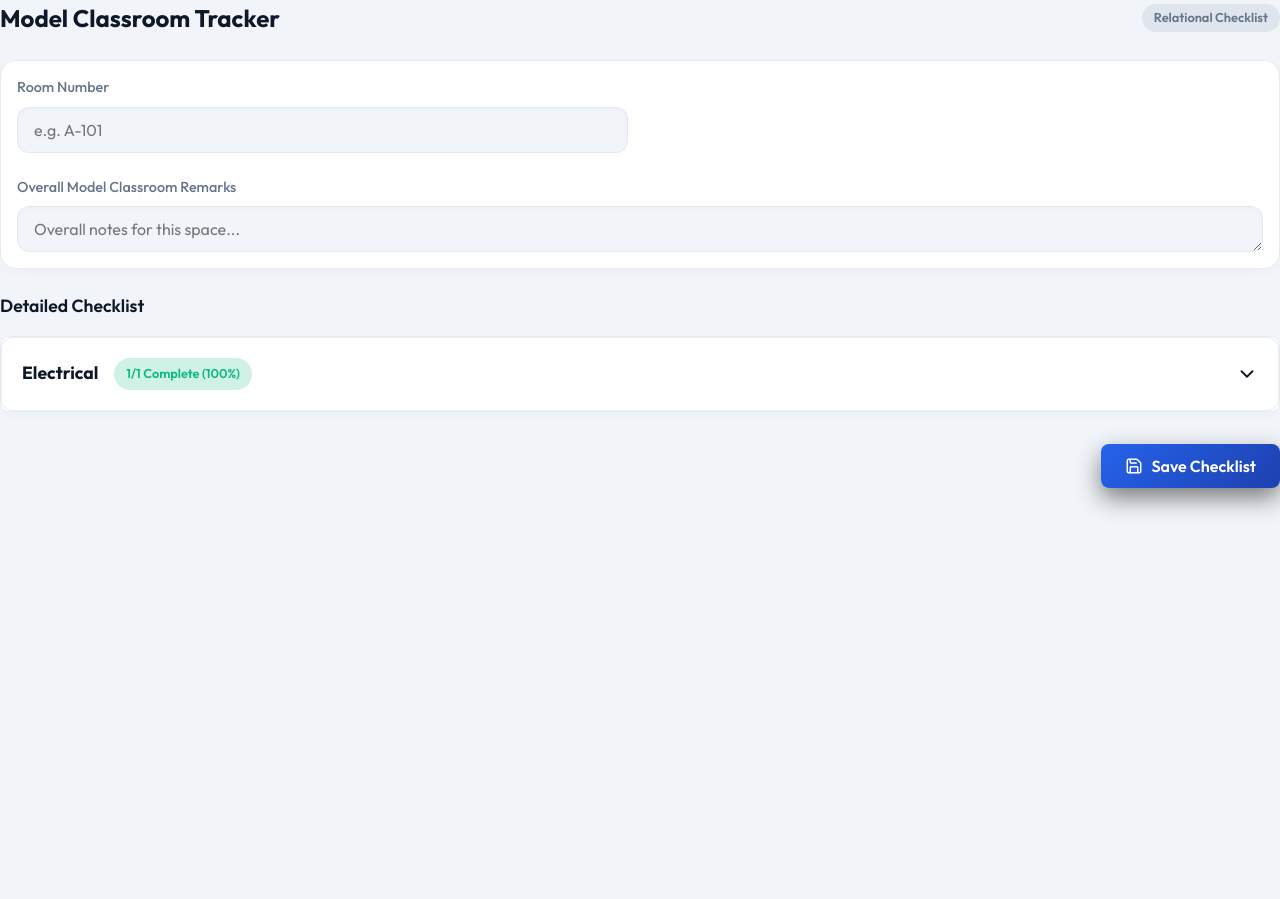
Test: model save does not open a copy snapshot while a source draft remains pending
Click the button "Electrical 1/1 Complete (100%)" at (60, 373), box [1,337,1279,411]
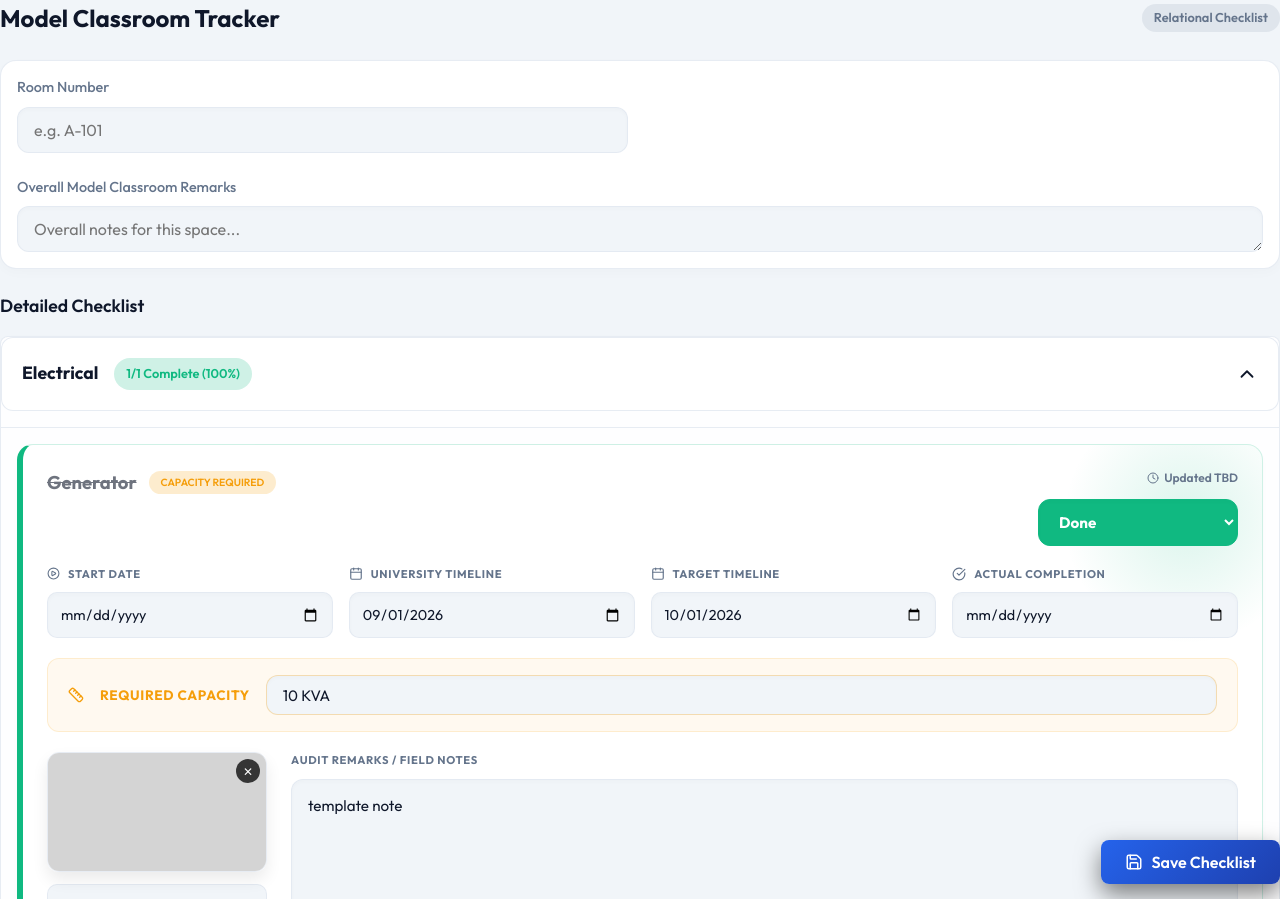
Replace the text in the field with placeholder "e.g. 62.5 KVA" with "12 KVA" at (741, 695), box [266,675,1217,715]
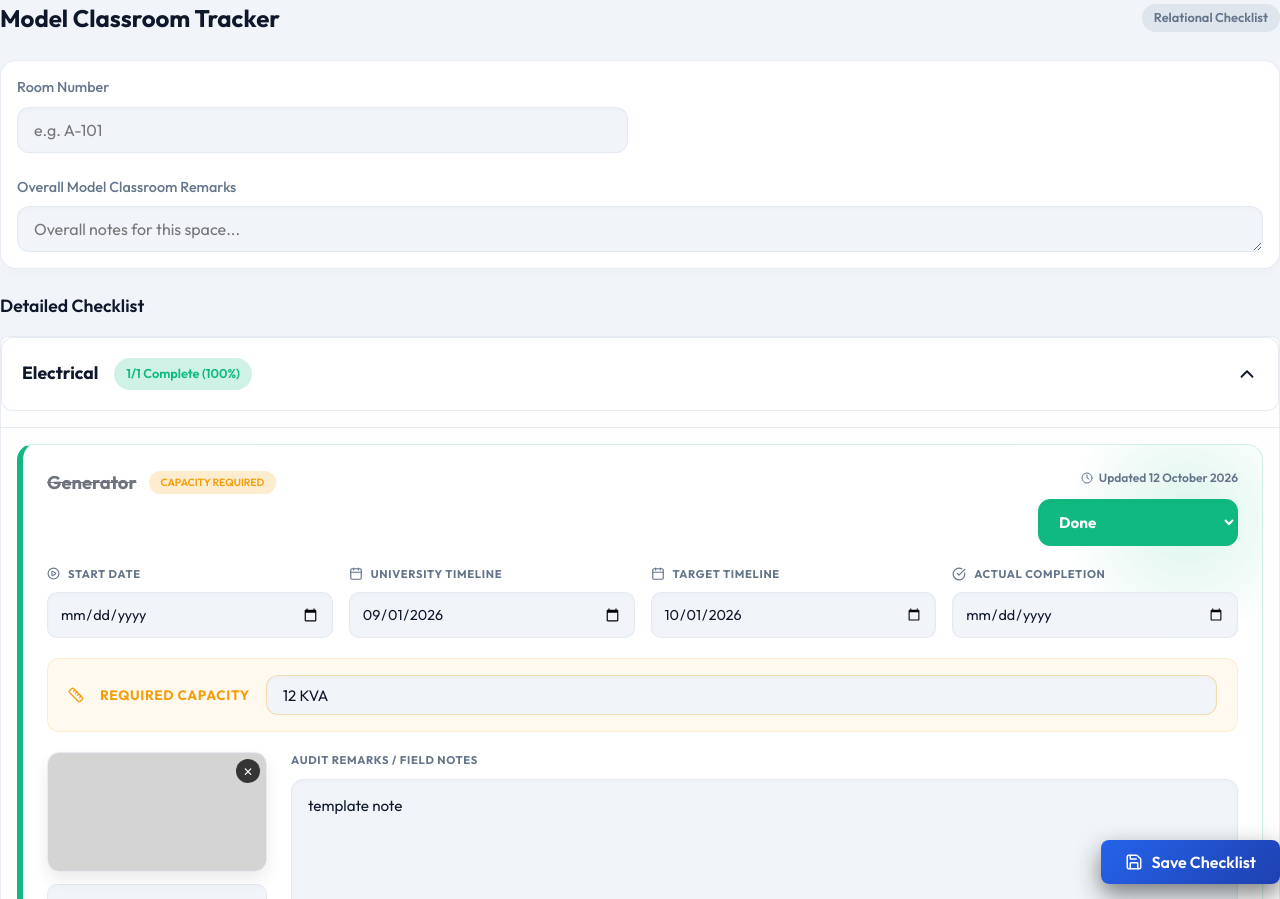
Click the button "Save Checklist" at (1191, 862), box [1102,840,1279,884]
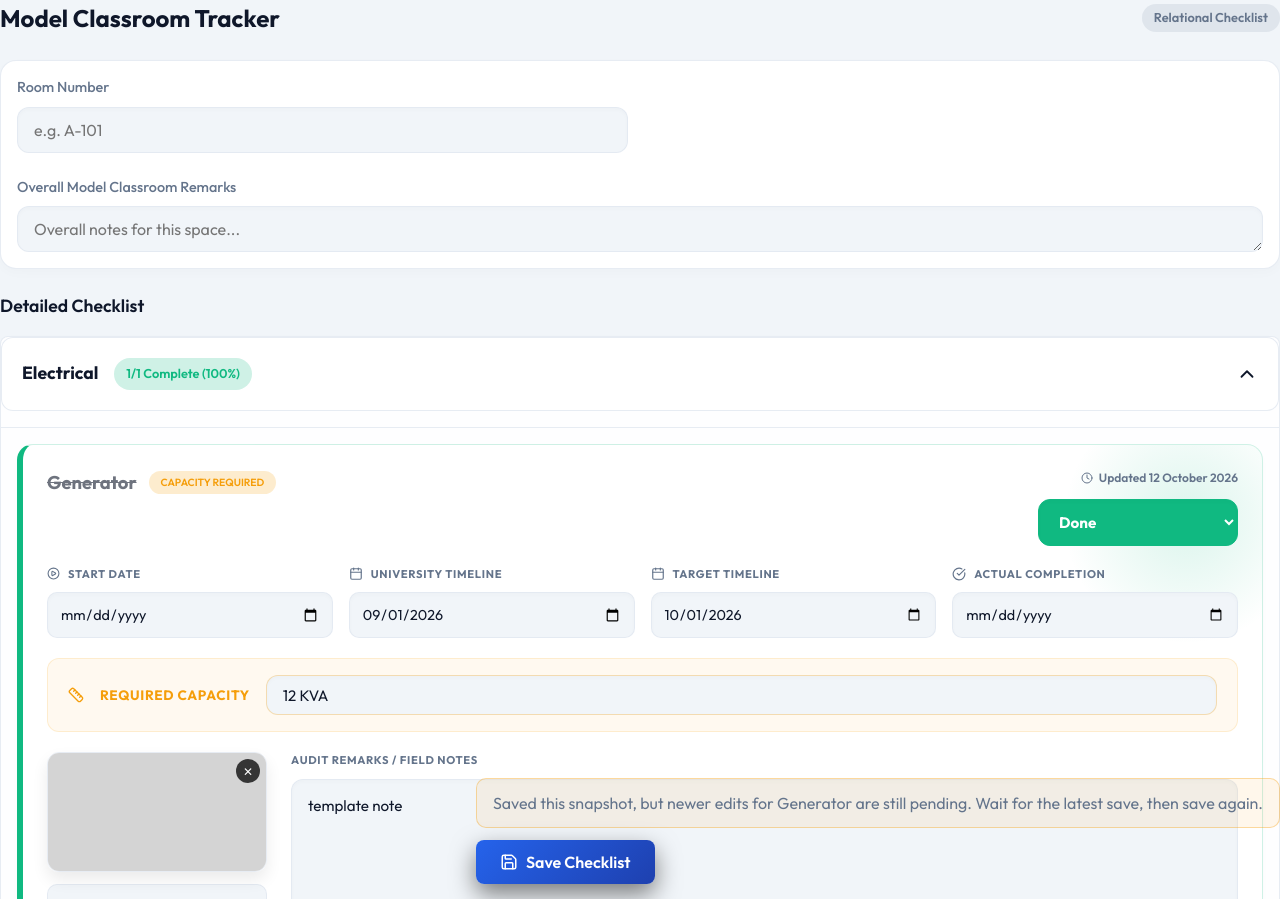
Now the message shows "pending", box [493,793,1263,813]
